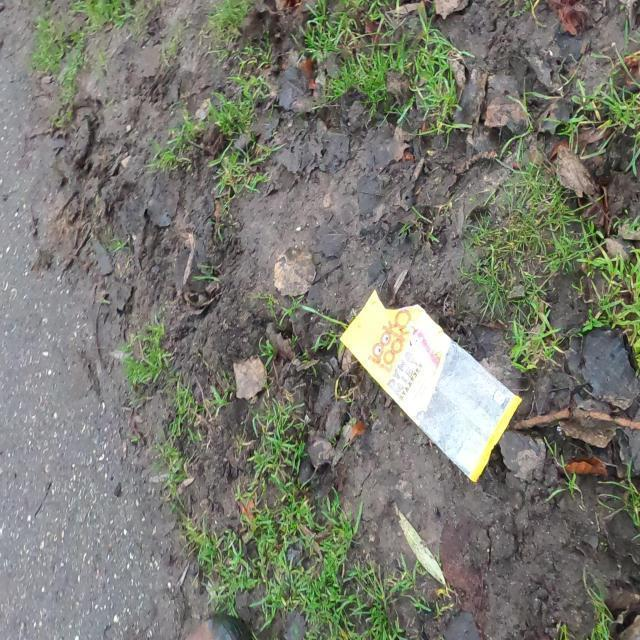Plastic: (336, 284, 524, 486)
